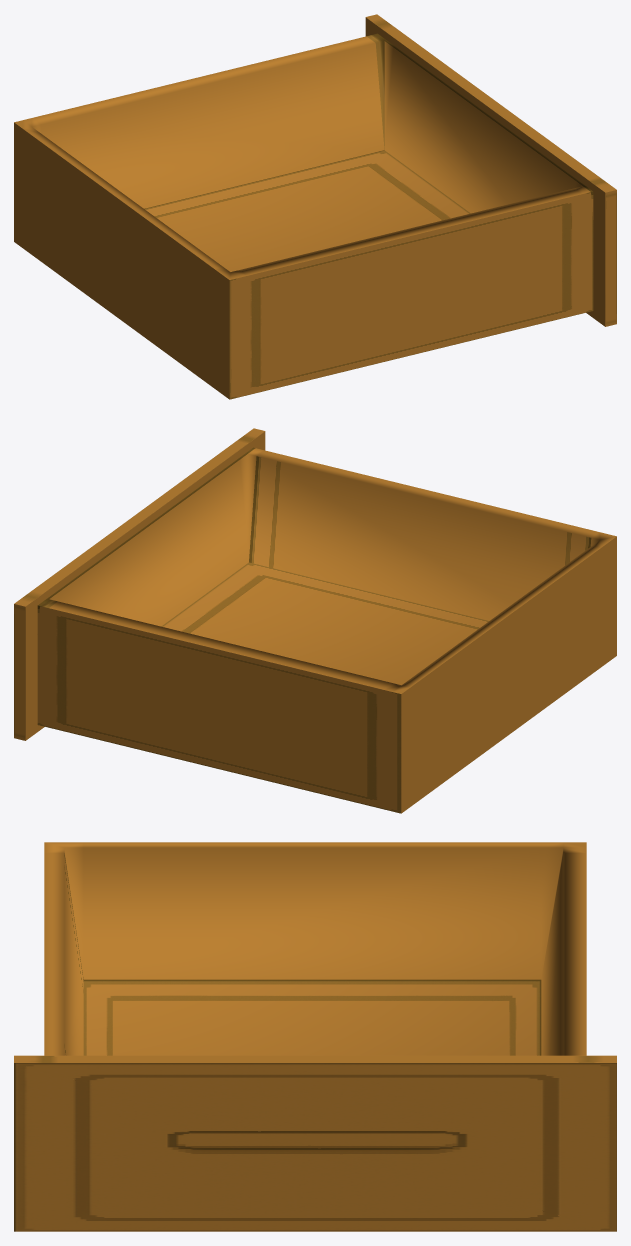
The model's file is Buro_cajon.mtl.obj.
3 renders of one model, top to bottom at view 1: azimuth 30°, elevation 25°; view 2: azimuth 150°, elevation 25°; view 3: azimuth 270°, elevation 25°, orthographic. The views are drawn at different scales.
Parts seen in each view (by area): view 1: Buro_cajon; view 2: Buro_cajon; view 3: Buro_cajon.
Part boxes in pixels (x1=…): Buro_cajon: x1=14, y1=14, x2=616, y2=399; Buro_cajon: x1=14, y1=428, x2=616, y2=813; Buro_cajon: x1=14, y1=842, x2=616, y2=1231.
Size of the model in its own units: 0.9032 by 0.3089 by 1.
2 materials, 2 textured.
